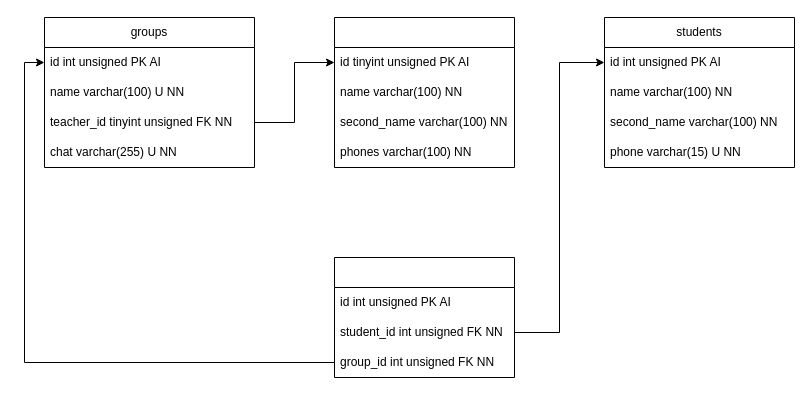
The diagram is 812 pixels wide and 395 high, and some of its shapes have lost their labels. The shapes that lost their labels are listed below. From the top down, each one's box as (x1, y1, x2, y2) in pixels, then its label:
(334, 16, 514, 168): teachers
(334, 256, 514, 378): students_groups
